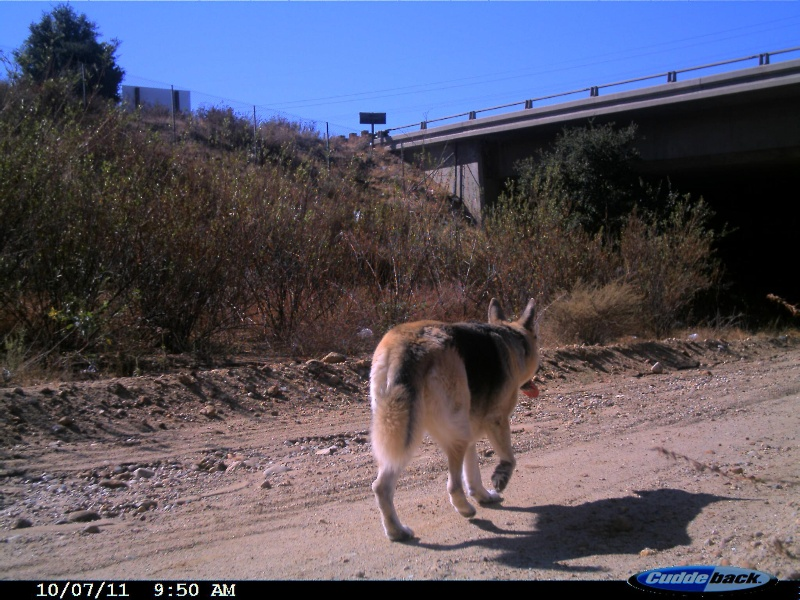dog: (364, 292, 546, 554)
